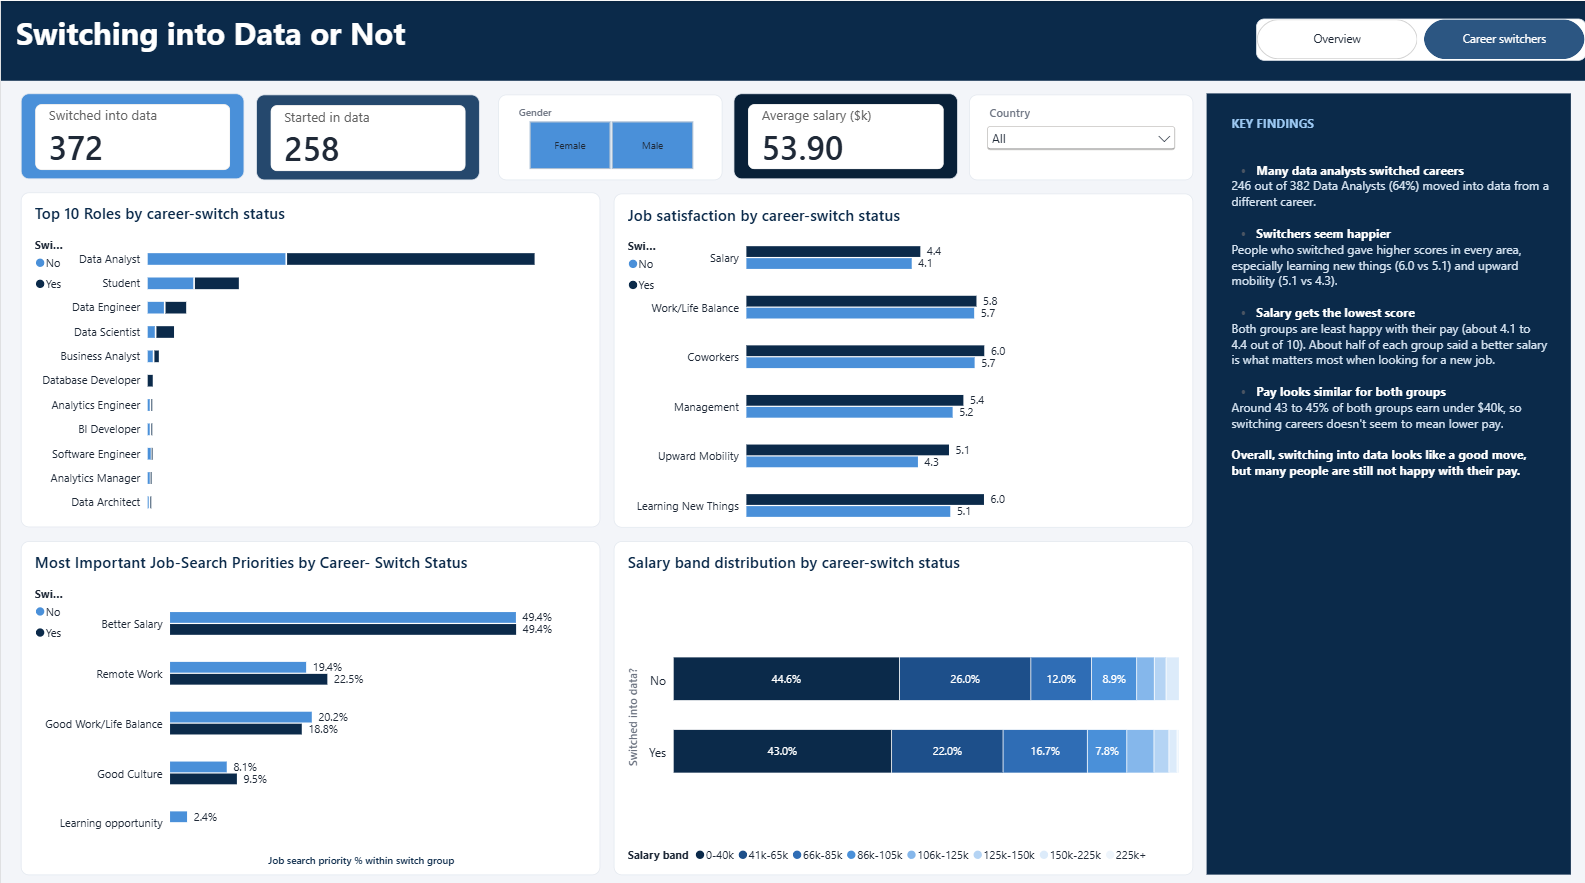

This screenshot's page, from the dashboard's own definition file:
{"tool":"powerbi","page":{"name":"Career switchers","canvas":[1920,1080],"ordinal":1},"visuals":[{"type":"textbox","box":[0,0,1920,96],"z":0},{"type":"cardVisual","fields":{"Data":["CountNonNull(Data Professional Survey.Unique ID)"]},"box":[24,112,270.4,104],"z":1000},{"type":"cardVisual","fields":{"Data":["CountNonNull(Data Professional Survey.Unique ID)"]},"box":[308.7,112.8,270.4,104],"z":2000},{"type":"cardVisual","fields":{"Data":["Avg(Data Professional Survey.Average Salary)"]},"box":[885.5,111.3,271.1,103.5],"z":3000},{"type":"slicer","fields":{"Values":["Data Professional Survey.Q9 - Male/Female?"]},"box":[600.2,112.8,271.1,103.4],"z":4000},{"type":"slicer","fields":{"Values":["Data Professional Survey.Country of Resident"]},"box":[1169.2,112.8,271.1,103.5],"z":5000},{"type":"barChart","title":"Top 10 Roles by career-switch status","fields":{"Category":["Data Professional Survey.Role Title"],"Series":["Data Professional Survey.Q2 - Did you switch careers into Data?"],"Y":["CountNonNull(Data Professional Survey.Unique ID)"]},"box":[24.5,231.6,700.4,404.8],"z":6000},{"type":"clusteredBarChart","title":"Job satisfaction by career-switch status","fields":{"Category":["Satisfaction Dimensions.Dimension"],"Series":["Data Professional Survey.Q2 - Did you switch careers into Data?"],"Y":["Data Professional Survey.Satisfaction Score"]},"box":[740,232,700,404],"z":7000},{"type":"clusteredBarChart","title":"Most Important Job-Search Priorities by Career- Switch Status","fields":{"Category":["Data Professional Survey.Q8 - If you were to look for a new job today, what would be the most important thing to you?"],"Series":["Data Professional Survey.Q2 - Did you switch careers into Data?"],"Y":["Data Professional Survey.Job Priority % Within Switch Group"]},"box":[24,652,700,404],"z":8000},{"type":"hundredPercentStackedBarChart","title":"Salary band distribution by career-switch status","fields":{"Category":["Data Professional Survey.Q2 - Did you switch careers into Data?"],"Series":["Salary Bands.Salary Band"],"Y":["CountNonNull(Data Professional Survey.Unique ID)"]},"box":[740,652,700,404],"z":9000},{"type":"textbox","box":[1456,112,440,944],"z":10000},{"type":"pageNavigator","box":[1515.5,20.7,399.1,50.8],"z":11000}]}

Visuals, with their boxes in screenshot pixels (x1, y1, x2, y2), scaled from the page's 1920x1080 canvas onto the 1585x883 screenshot:
textbox: x1=0 y1=0 x2=1584 y2=78
cardVisual - CountNonNull(Data Professional Survey.Unique ID): x1=20 y1=92 x2=243 y2=177
cardVisual - CountNonNull(Data Professional Survey.Unique ID): x1=255 y1=92 x2=478 y2=177
cardVisual - Avg(Data Professional Survey.Average Salary): x1=731 y1=91 x2=955 y2=176
slicer - Data Professional Survey.Q9 - Male/Female?: x1=495 y1=92 x2=719 y2=177
slicer - Data Professional Survey.Country of Resident: x1=965 y1=92 x2=1189 y2=177
"Top 10 Roles by career-switch status" barChart: x1=20 y1=189 x2=598 y2=520
"Job satisfaction by career-switch status" clusteredBarChart: x1=611 y1=190 x2=1189 y2=520
"Most Important Job-Search Priorities by Career- Switch Status" clusteredBarChart: x1=20 y1=533 x2=598 y2=863
"Salary band distribution by career-switch status" hundredPercentStackedBarChart: x1=611 y1=533 x2=1189 y2=863
textbox: x1=1202 y1=92 x2=1565 y2=863
pageNavigator: x1=1251 y1=17 x2=1581 y2=58
